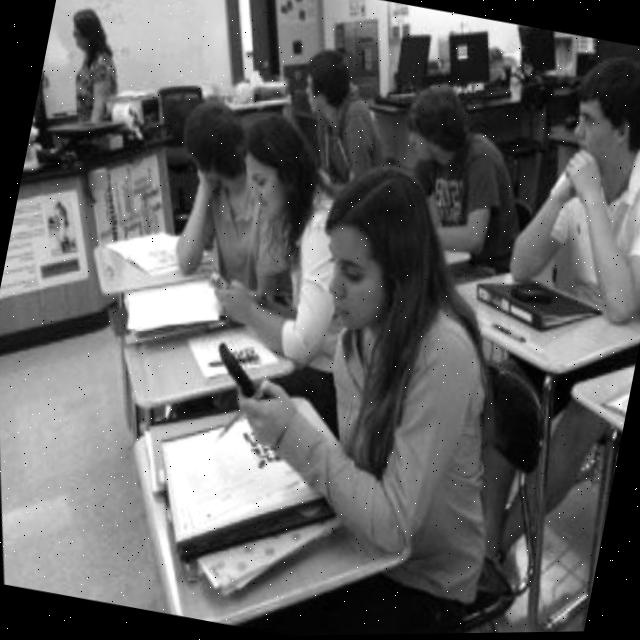phone: (208, 333, 269, 407)
